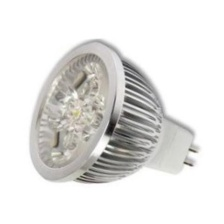light_bulb: (22, 36, 204, 188)
